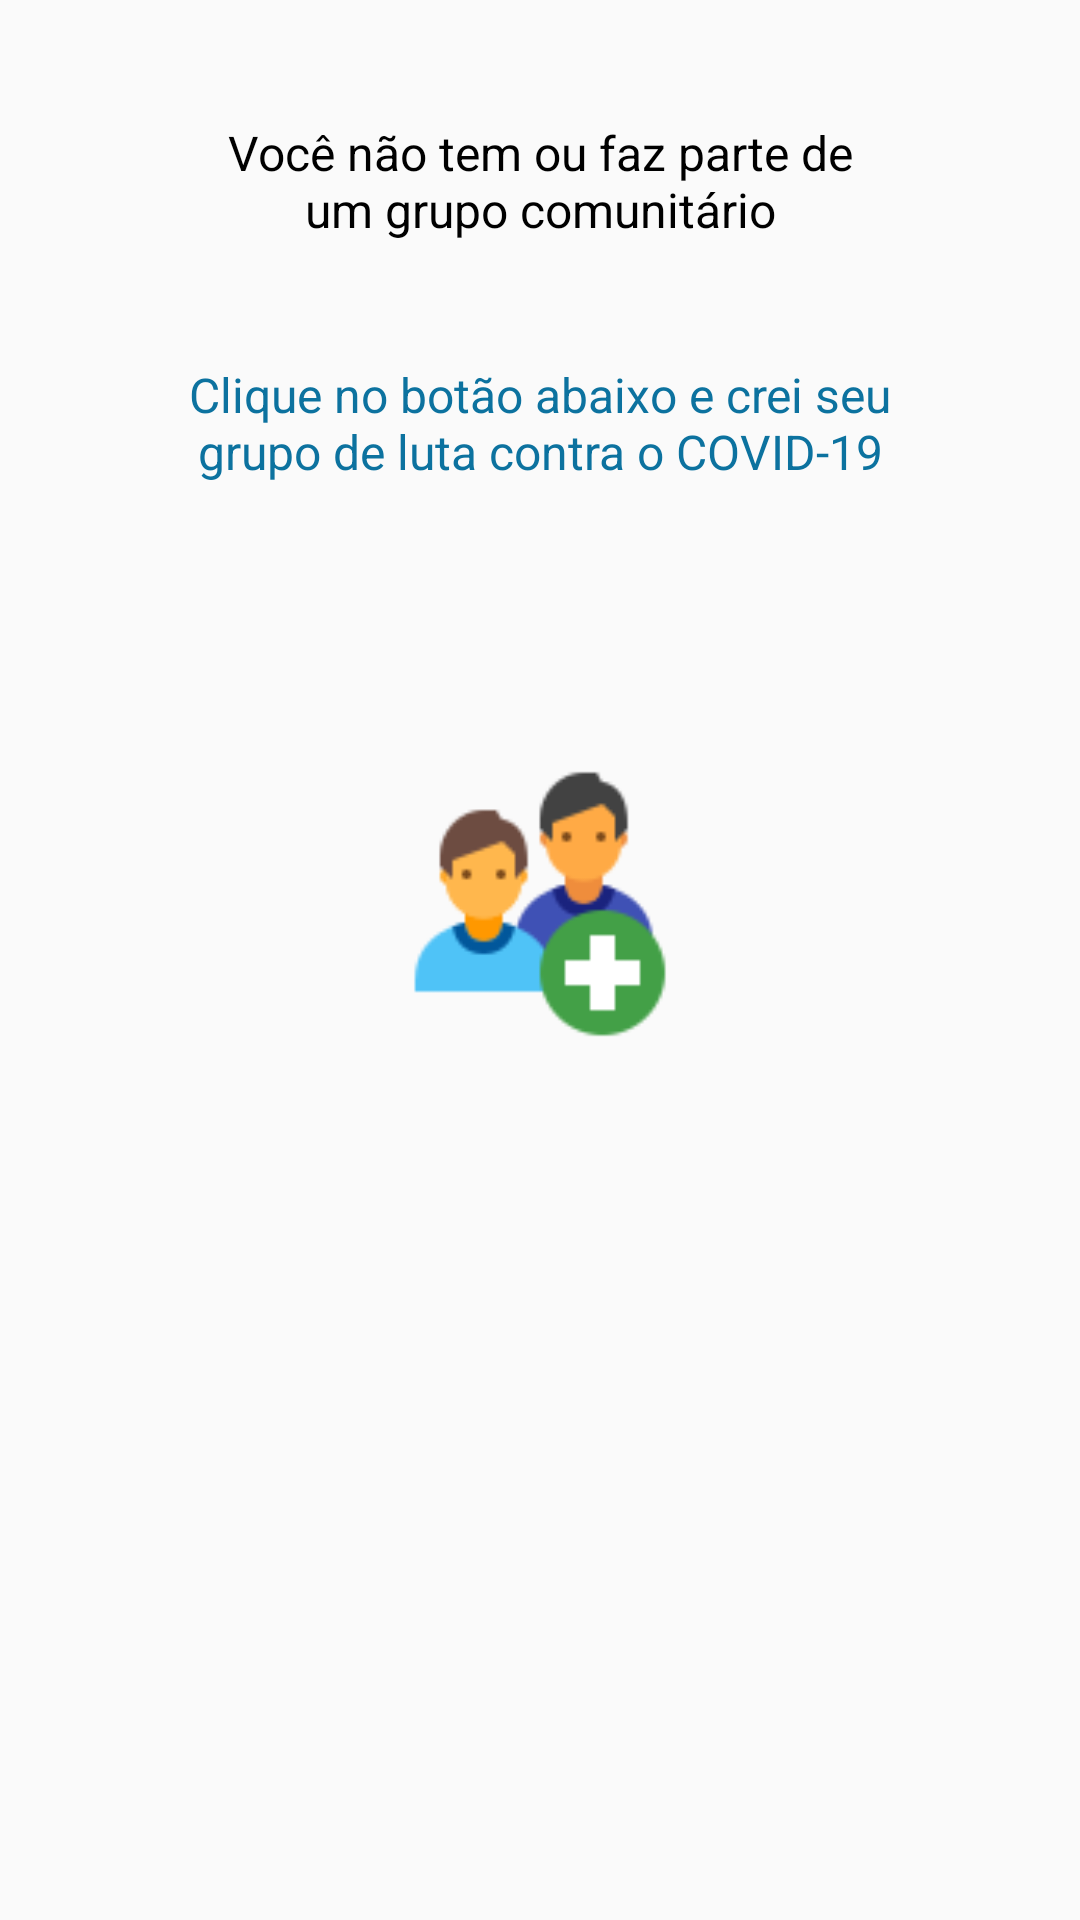

Icon click points for this 1080 × 1920 phone screenshot, format (x,y):
add grupo: (540,904)
